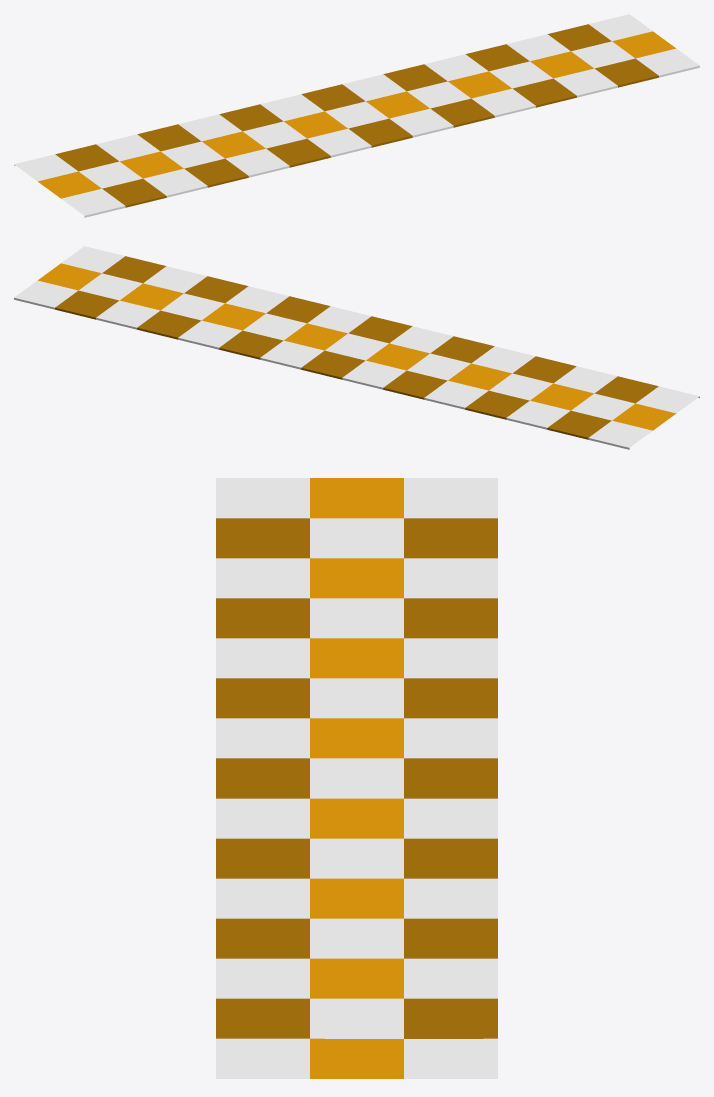
File: kalimari_desert_start.glb
The picture shows the model from 3 angles, top to bottom: view 1: azimuth 30°, elevation 25°; view 2: azimuth 150°, elevation 25°; view 3: azimuth 270°, elevation 25°; orthographic projection. The views are drawn at different scales.
Visible parts, largest first — view 1: Object_14; view 2: Object_14; view 3: Object_14.
Part boxes in pixels (<box>): Object_14: <box>14,14,699,217</box>; Object_14: <box>14,246,699,449</box>; Object_14: <box>216,478,497,1078</box>.
Size of the model in its own units: 26.3 by 0.0813 by 5.22.
Materials: 1 (1 with a texture image).
